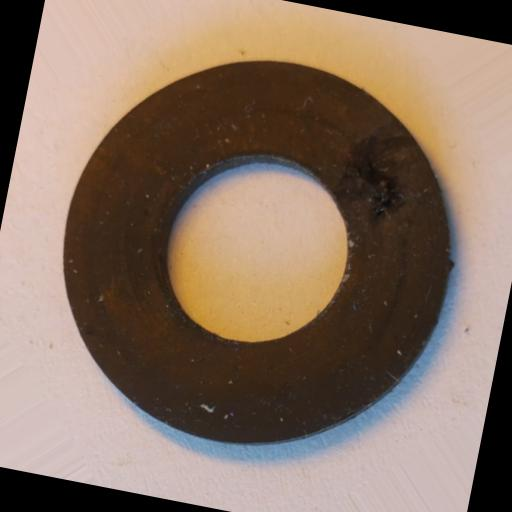defect: (327, 118, 424, 236)
